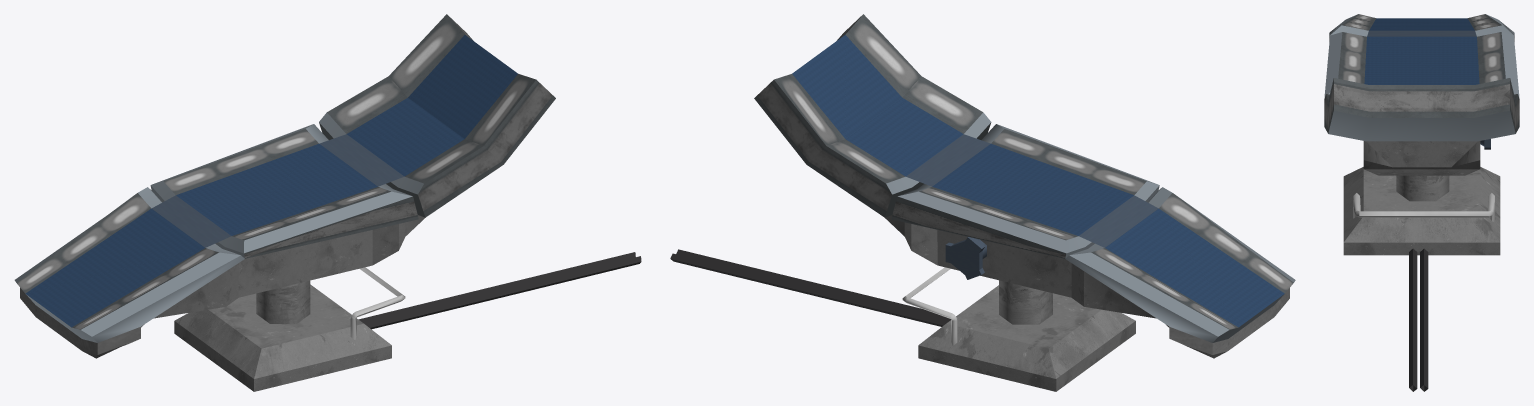
File: Bed.fbx
The picture shows the model from 3 angles, left to right: view 1: azimuth 30°, elevation 25°; view 2: azimuth 150°, elevation 25°; view 3: azimuth 270°, elevation 25°; orthographic projection.
Visible parts, largest first — view 1: Bed; view 2: Bed; view 3: Bed.
Part boxes in pixels (left/top/right/bottom): Bed: left=14, top=14, right=641, bottom=391; Bed: left=670, top=14, right=1295, bottom=391; Bed: left=1324, top=14, right=1519, bottom=391.
Bounding box in the file's own units: 377 × 153 × 110.
